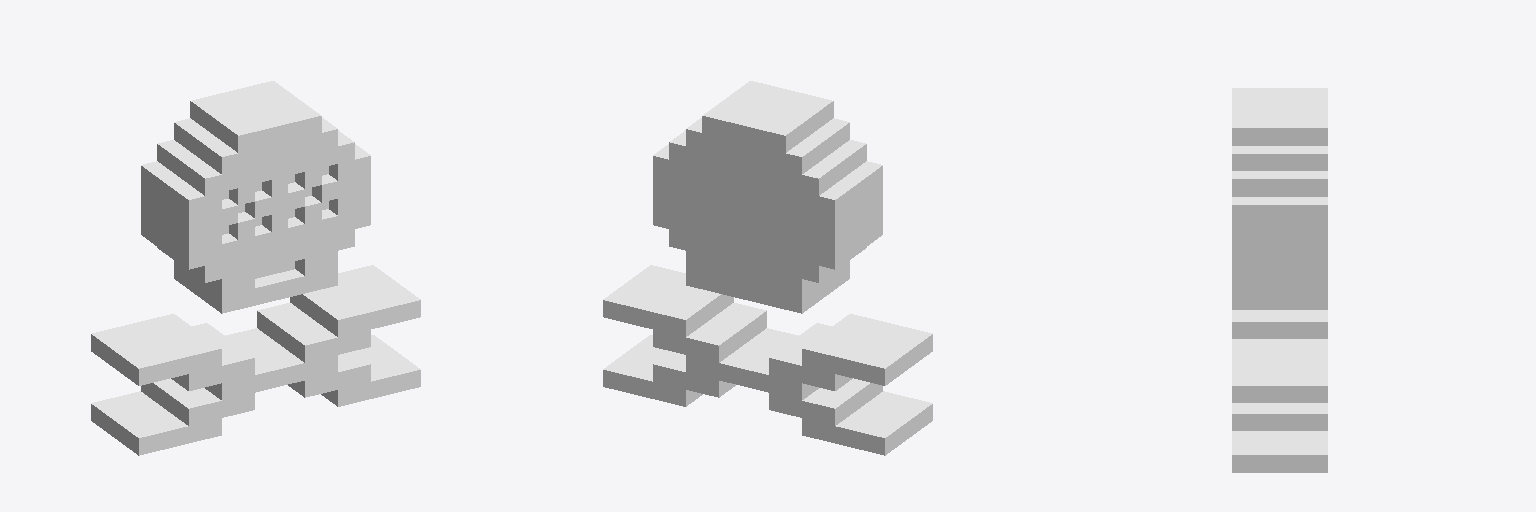
The model's file is poisonIcon.obj.
3 views of the same model, side by side, from view 1: azimuth 30°, elevation 25°; view 2: azimuth 150°, elevation 25°; view 3: azimuth 270°, elevation 25° (orthographic).
Size of the model in its own units: 17 by 17 by 5.